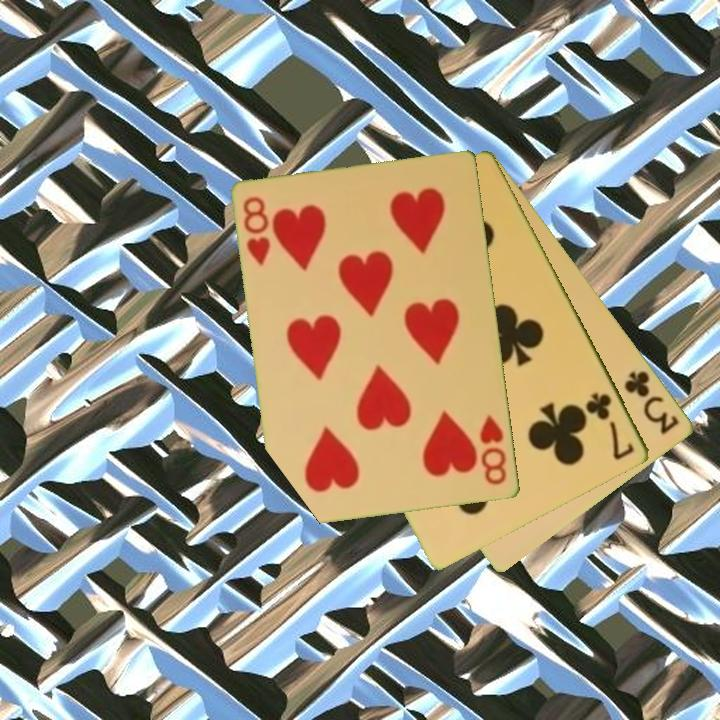3c: (621, 367, 683, 438)
7c: (583, 389, 638, 464)
8h: (240, 193, 274, 269), (477, 412, 510, 489)
